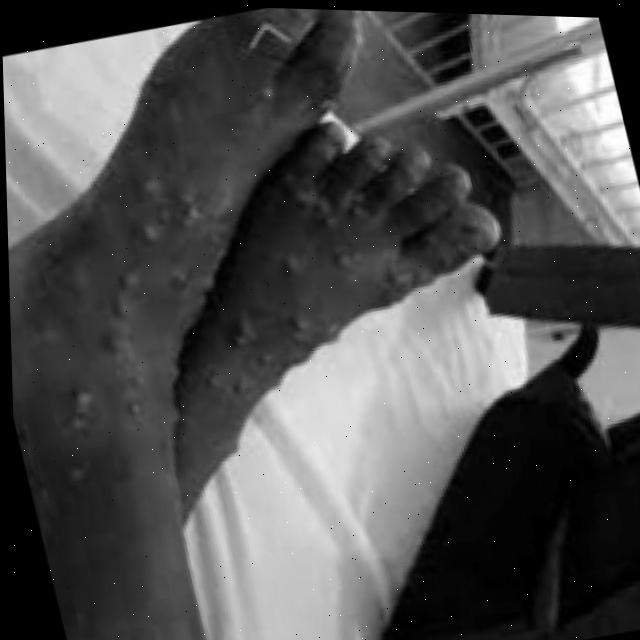Eczema: (42, 50, 418, 452)
